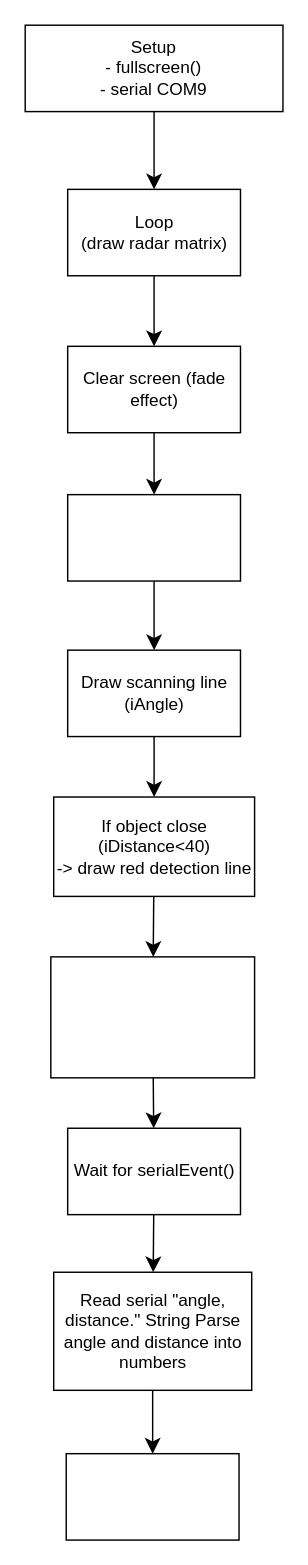
Image size: 308x1565. Some labels were removed from this diagram. Each missing label, with the centre of its shape:
"Draw bottom overlay text: - Static (ranges) - Dynamic (angle, distance)" belongs at pixel 152 1016.
"Draw radar arcs & grid lines" belongs at pixel 153 537.
"Repeat draw loop" belongs at pixel 152 1496.
